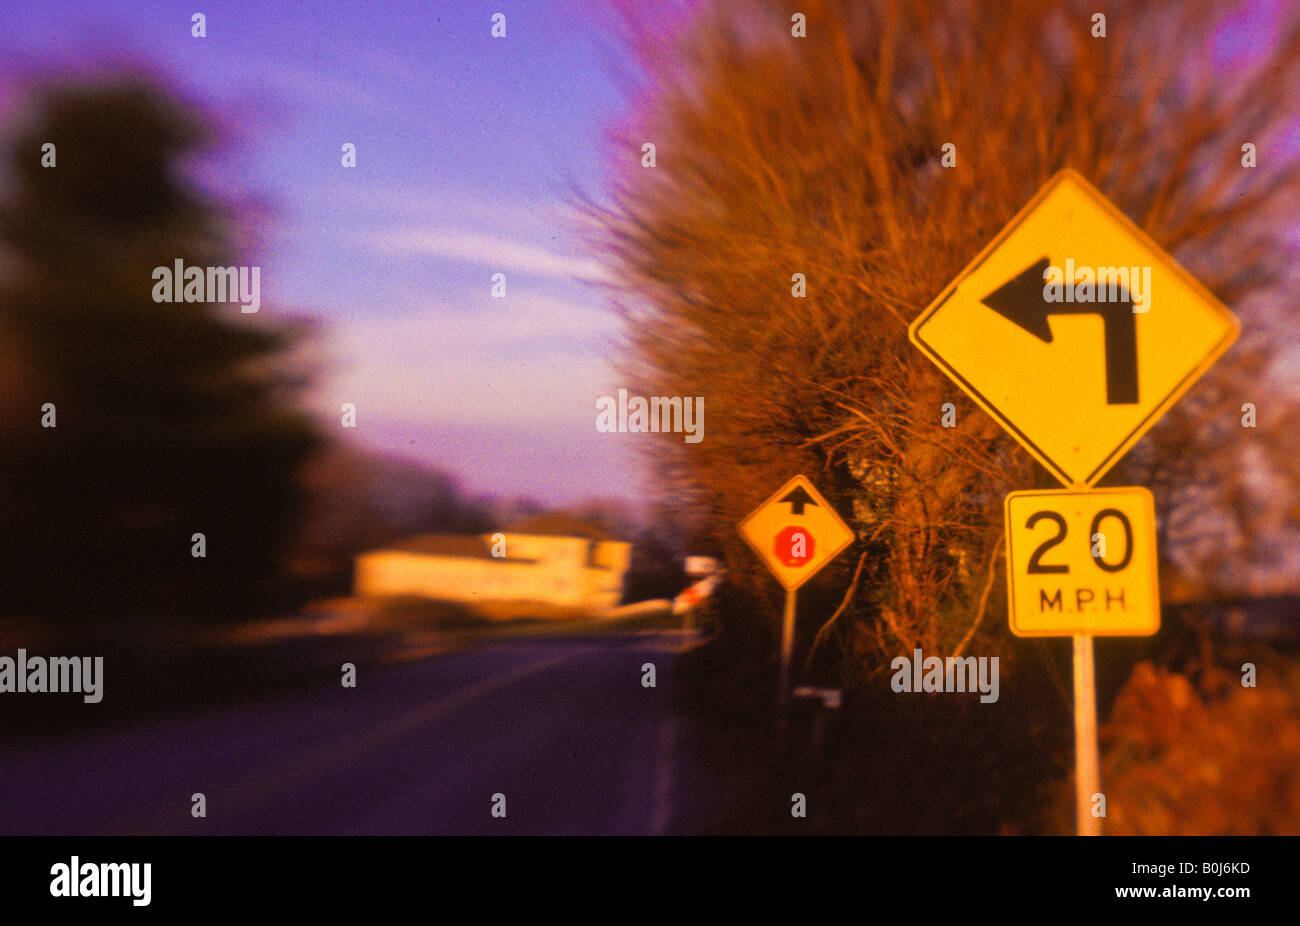left turn: (918, 169, 1240, 491)
